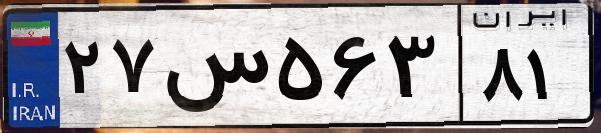1: (525, 38, 570, 115)
2: (57, 26, 110, 100)
3: (385, 28, 445, 110)
5: (270, 28, 330, 110)
6: (330, 28, 385, 110)
7: (110, 28, 158, 98)
8: (475, 38, 525, 113)
س: (158, 20, 270, 120)
